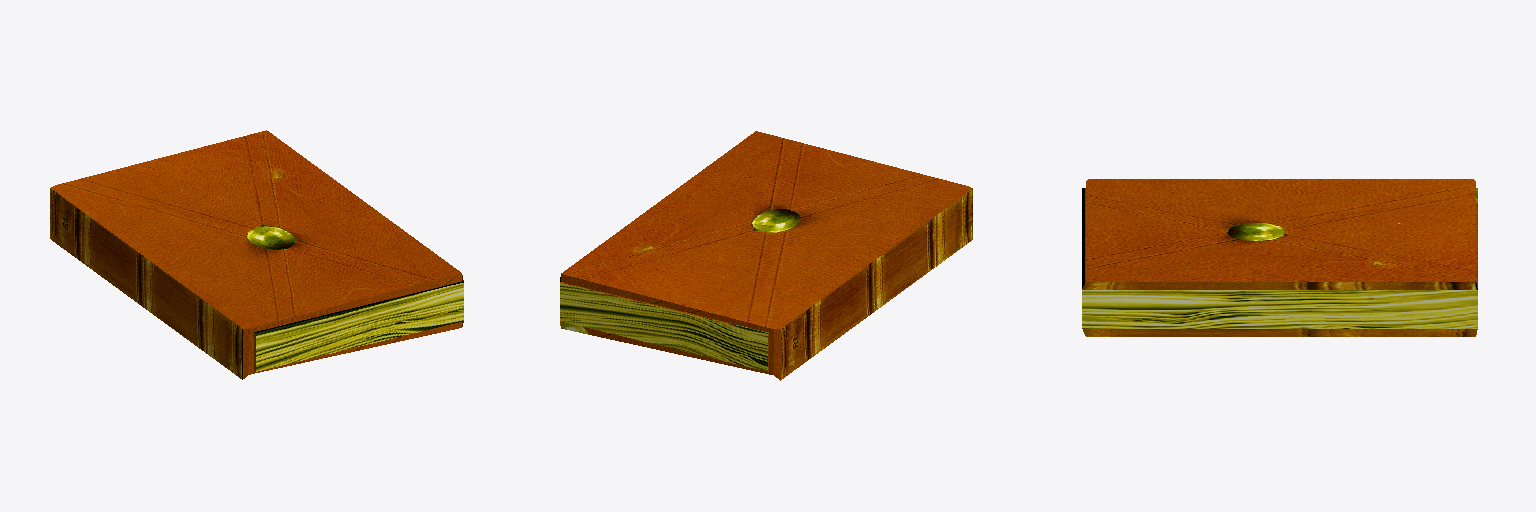
3 renders of one model, left to right at view 1: azimuth 30°, elevation 25°; view 2: azimuth 150°, elevation 25°; view 3: azimuth 270°, elevation 25°, orthographic.
Visible parts, largest first — view 1: Cube; view 2: Cube; view 3: Cube.
Part boxes in pixels (left/top/right/bottom): Cube: left=50, top=130, right=463, bottom=379; Cube: left=560, top=131, right=972, bottom=380; Cube: left=1082, top=179, right=1477, bottom=336.
Bounding box in the file's own units: 1.96 × 0.4701 × 3.08.
Materials: 1 (1 with a texture image).